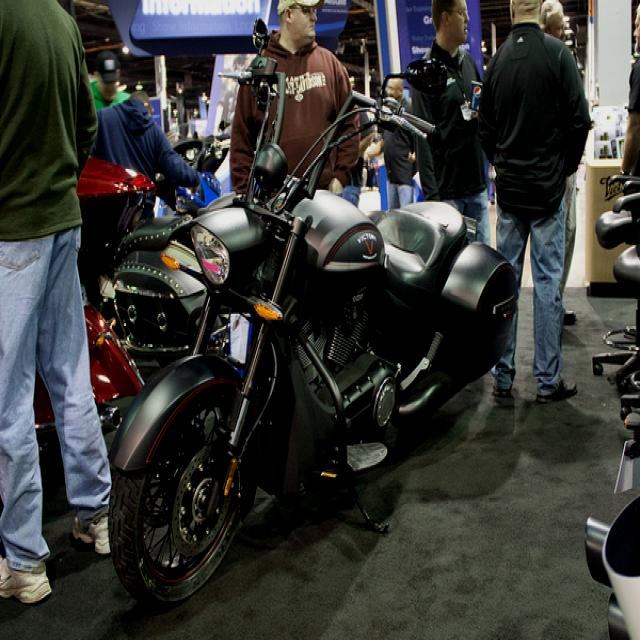Vehicle: (108, 51, 522, 588), (31, 131, 213, 467)
